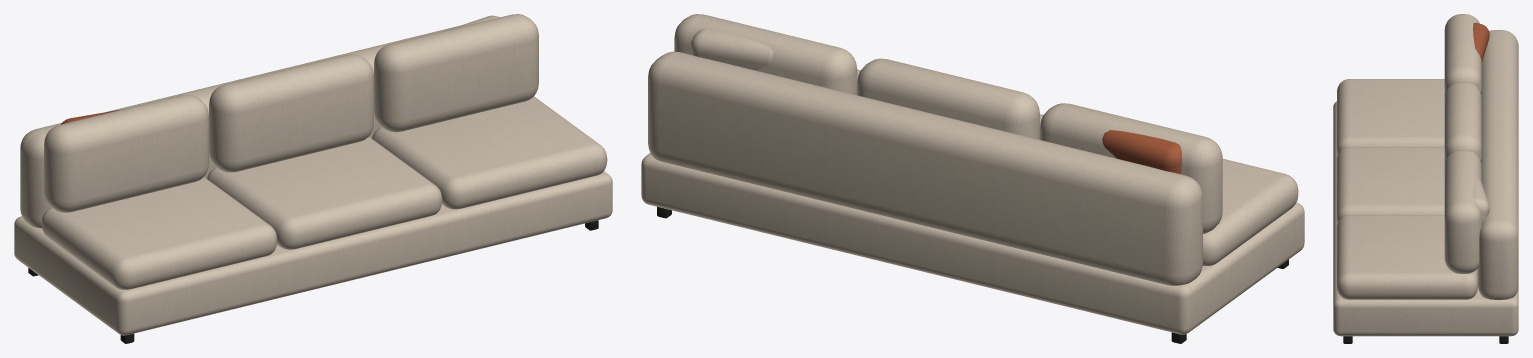
Rendered from sofa-modular.glb.
3 views of the same model, side by side, from view 1: azimuth 30°, elevation 25°; view 2: azimuth 150°, elevation 25°; view 3: azimuth 270°, elevation 25° (orthographic). The views are drawn at different scales.
Parts seen in each view (by area): view 1: base, seat, seat.002, seat.001, cushion.001, cushion, cushion.002, back; view 2: back, base, cushion.001, cushion, cushion.002, seat, pillow.001, pillow; view 3: seat.002, back, base, seat, seat.001, cushion.002, cushion.001, cushion, pillow, pillow.001.
Boxes of the visible parts, x1,y1,x2,y2 form: base: [14, 171, 612, 335]; seat: [41, 177, 277, 289]; seat.002: [372, 96, 607, 209]; seat.001: [207, 137, 442, 249]; cushion.001: [209, 54, 373, 172]; cushion: [44, 94, 208, 212]; cushion.002: [374, 14, 538, 132]; back: [20, 26, 458, 228]; back: [648, 51, 1202, 285]; base: [641, 153, 1304, 334]; cushion.001: [857, 58, 1039, 139]; cushion: [1040, 103, 1222, 233]; cushion.002: [674, 14, 857, 95]; seat: [1202, 159, 1298, 265]; pillow.001: [691, 28, 772, 70]; pillow: [1102, 130, 1182, 174]; seat.002: [1337, 215, 1477, 299]; back: [1478, 30, 1518, 299]; base: [1333, 101, 1518, 336]; seat: [1337, 79, 1444, 154]; seat.001: [1337, 147, 1444, 222]; cushion.002: [1444, 150, 1481, 273]; cushion.001: [1444, 82, 1481, 164]; cushion: [1444, 14, 1481, 96]; pillow: [1473, 23, 1489, 62]; pillow.001: [1473, 175, 1489, 221].
Size of the model in its own units: 2.6 by 0.82 by 1.
Materials: 3 (2 with a texture image).
